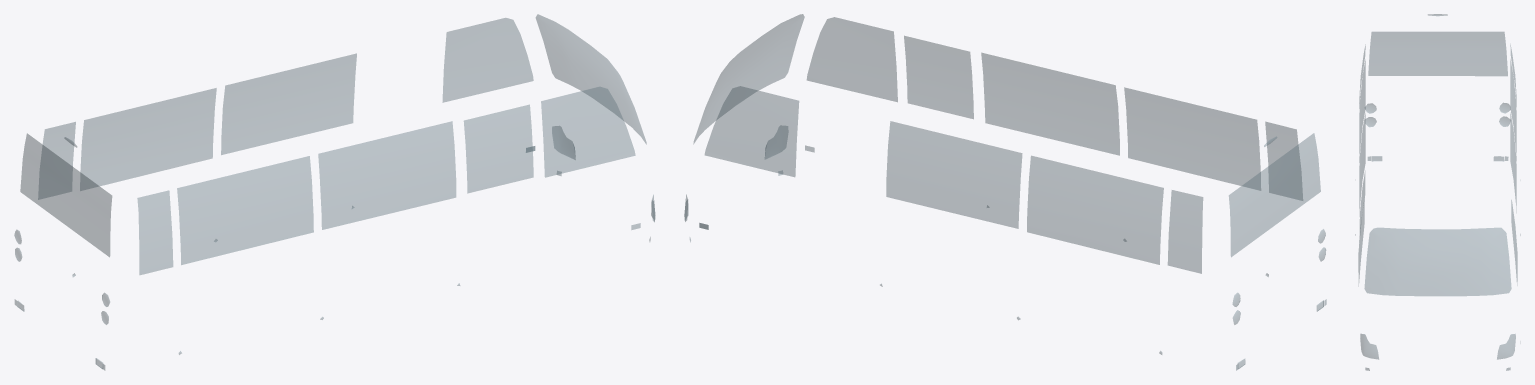
3 renders of one model, left to right at view 1: azimuth 30°, elevation 25°; view 2: azimuth 150°, elevation 25°; view 3: azimuth 270°, elevation 25°, orthographic. The views are drawn at different scales.
Visible parts, largest first — view 1: SM_MitsubishiFusoRosa_Glass_Int1; view 2: SM_MitsubishiFusoRosa_Glass_Int1; view 3: SM_MitsubishiFusoRosa_Glass_Int1.
Boxes of the visible parts, x1,y1,x2,y2 form: SM_MitsubishiFusoRosa_Glass_Int1: (14, 14, 655, 370); SM_MitsubishiFusoRosa_Glass_Int1: (684, 14, 1326, 370); SM_MitsubishiFusoRosa_Glass_Int1: (1355, 14, 1520, 370).
Bounding box in the file's own units: 7.93 × 2.71 × 2.64.
